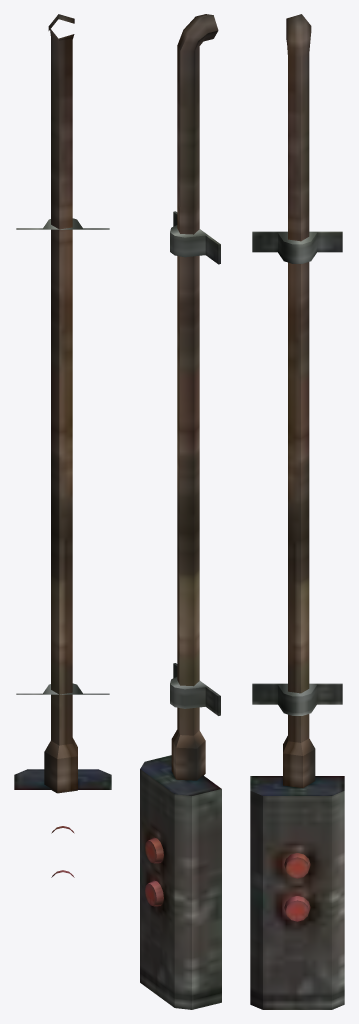
Rendered from freightelevatorbutton.glb.
3 renders of one model, left to right at view 1: azimuth 90°, elevation 25°; view 2: azimuth 210°, elevation 25°; view 3: azimuth 270°, elevation 25°, orthographic. The views are drawn at different scales.
Visible parts, largest first — view 1: 0_elevatorbutton_sheet; view 2: 0_elevatorbutton_sheet; view 3: 0_elevatorbutton_sheet.
Boxes of the visible parts, bbox=[...] form: 0_elevatorbutton_sheet: bbox=[14, 14, 111, 877]; 0_elevatorbutton_sheet: bbox=[140, 14, 221, 1009]; 0_elevatorbutton_sheet: bbox=[250, 14, 344, 1009].
Bounding box in the file's own units: 0.1509 × 2.3 × 0.2032.
Materials: 1 (1 with a texture image).
